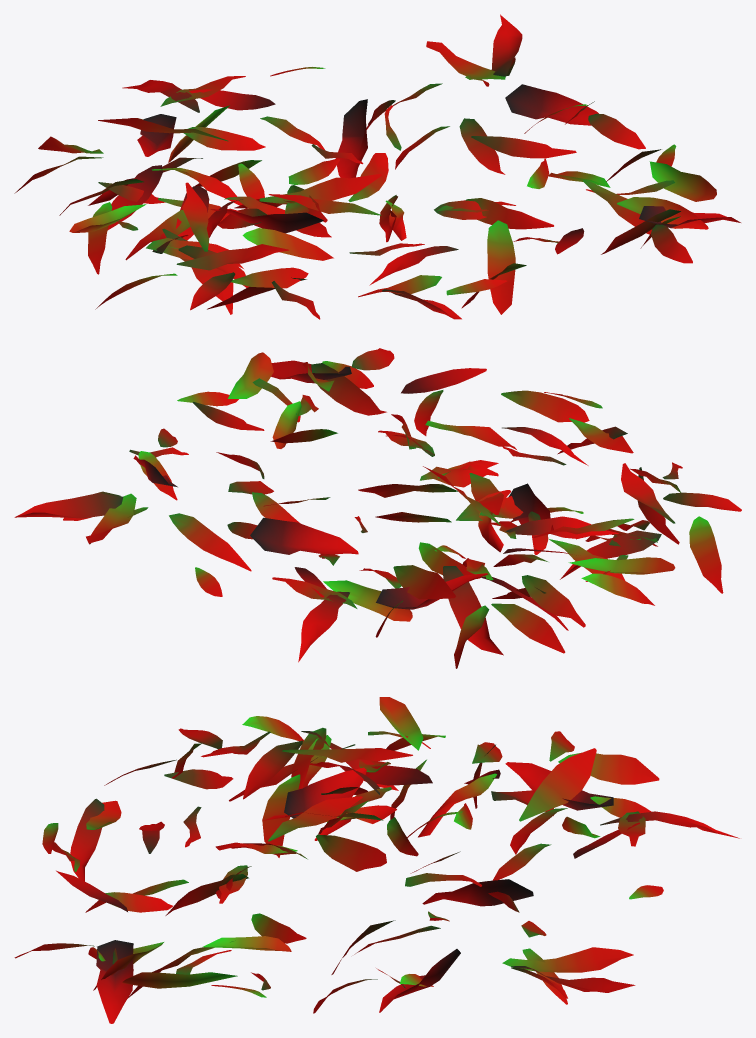
File: Var2_LOD0.fbx
The picture shows the model from 3 angles, top to bottom: view 1: azimuth 30°, elevation 25°; view 2: azimuth 150°, elevation 25°; view 3: azimuth 270°, elevation 25°; orthographic projection. The views are drawn at different scales.
Visible parts, largest first — view 1: _adaa_Var2_LOD0; view 2: _adaa_Var2_LOD0; view 3: _adaa_Var2_LOD0.
Part boxes in pixels (x1,y1,x2,y2): _adaa_Var2_LOD0: [14, 14, 740, 319]; _adaa_Var2_LOD0: [14, 348, 741, 668]; _adaa_Var2_LOD0: [14, 697, 739, 1023].
Size of the model in its own units: 63.96 by 7.74 by 65.49.
